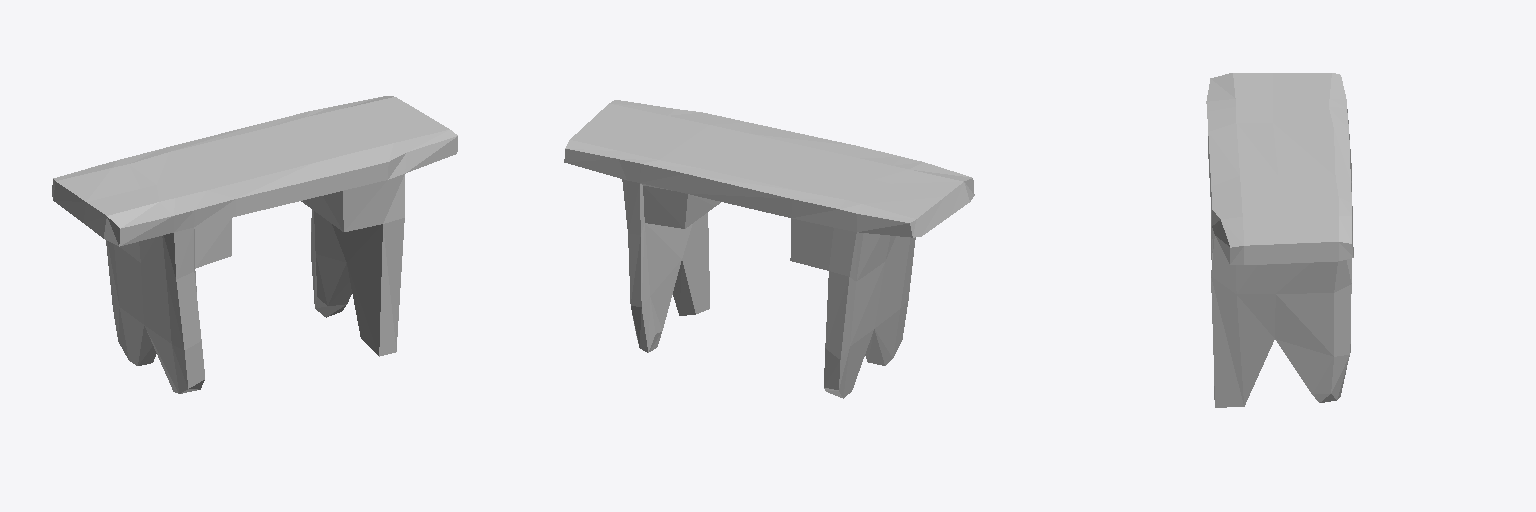
File: taburet1_update.obj
3 renders of one model, left to right at view 1: azimuth 30°, elevation 25°; view 2: azimuth 150°, elevation 25°; view 3: azimuth 270°, elevation 25°, orthographic.
Visible parts, largest first — view 1: Plane; view 2: Plane; view 3: Plane.
Boxes of the visible parts, <box> form: Plane: <box>52,96,457,393</box>; Plane: <box>564,100,974,398</box>; Plane: <box>1206,73,1353,407</box>.
Size of the model in its own units: 0.7196 by 0.3836 by 0.2578.